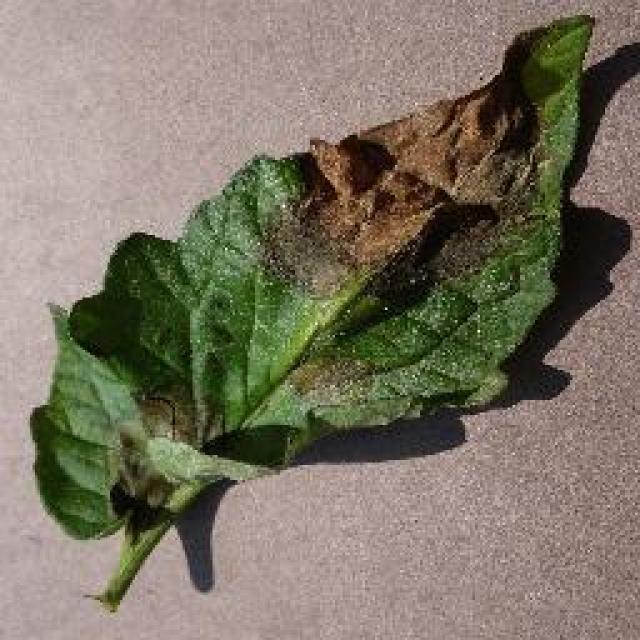Tomato late blight leaf: (28, 14, 597, 544)
